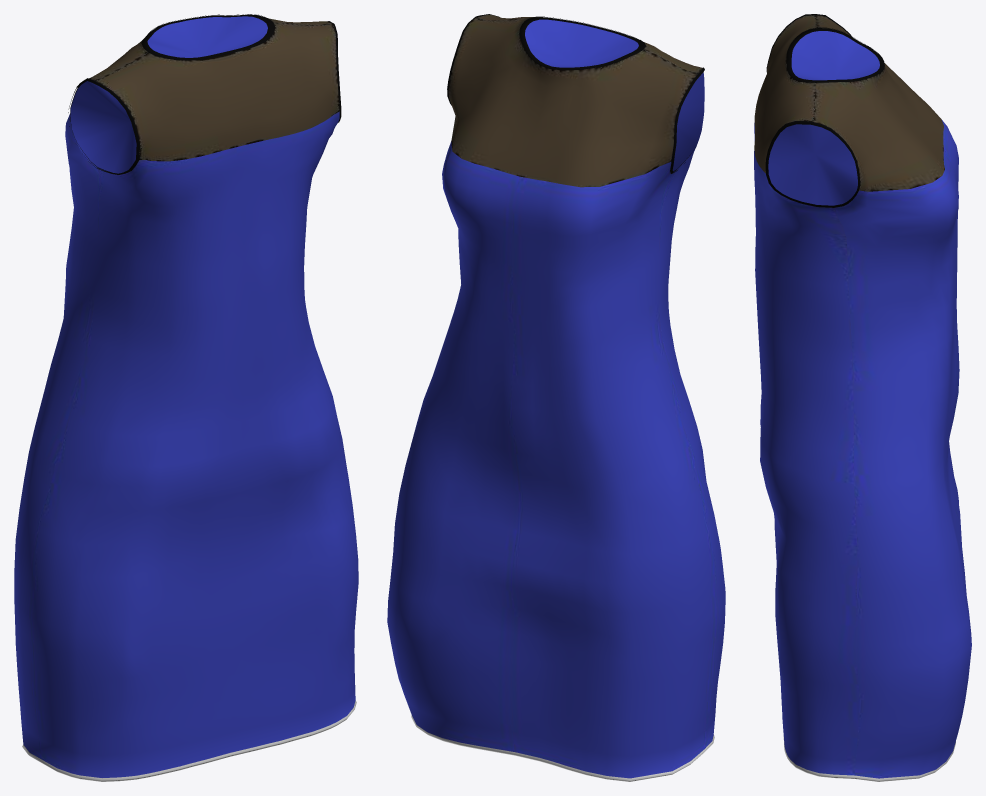
The model's file is av_wj_body.glb.
The picture shows the model from 3 angles, left to right: view 1: azimuth 30°, elevation 25°; view 2: azimuth 150°, elevation 25°; view 3: azimuth 270°, elevation 25°; orthographic projection. The views are drawn at different scales.
Visible parts, largest first — view 1: Wolf3D_Outfit_Top; view 2: Wolf3D_Outfit_Top; view 3: Wolf3D_Outfit_Top.
Boxes of the visible parts, x1=… form: Wolf3D_Outfit_Top: x1=14, y1=14, x2=358, y2=781; Wolf3D_Outfit_Top: x1=387, y1=14, x2=725, y2=781; Wolf3D_Outfit_Top: x1=754, y1=14, x2=971, y2=781.
Size of the model in its own units: 0.7786 by 1.68 by 0.4976.
1 material, 1 textured.
